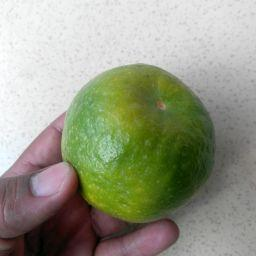Unripe: (68, 65, 216, 227)
